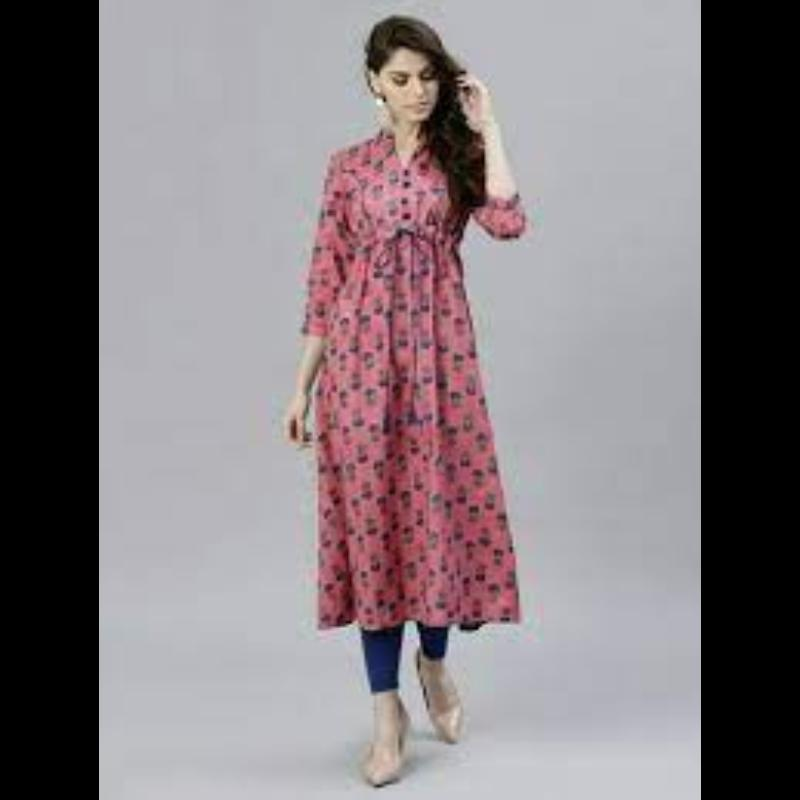Kurta: (222, 97, 578, 639)
